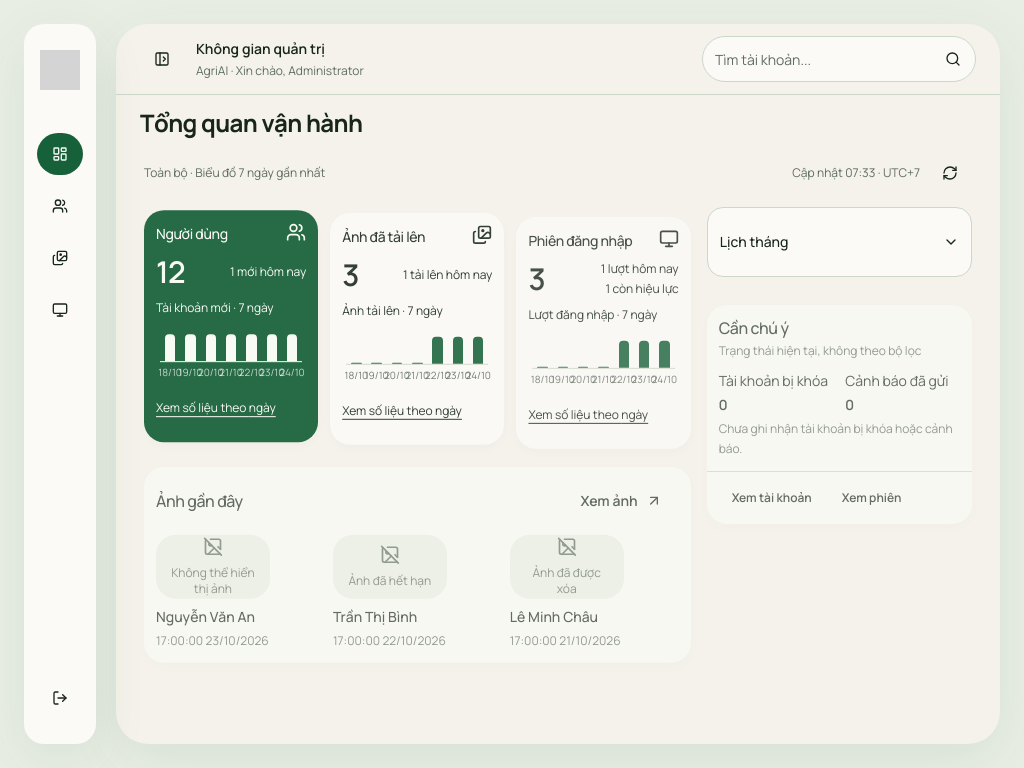
Scenario: Admin mock workspace with real authentication › filters mock accounts from dashboard search and handles no matches
The width and height of the screenshot is (1024, 768).
Expected: the heading "Tổng quan vận hành" is shown, [140,106,362,139]
Type "an@example.test" into the search field named "Tìm tài khoản theo tên hoặc email". click: (815, 59)
box: [703,37,927,81]
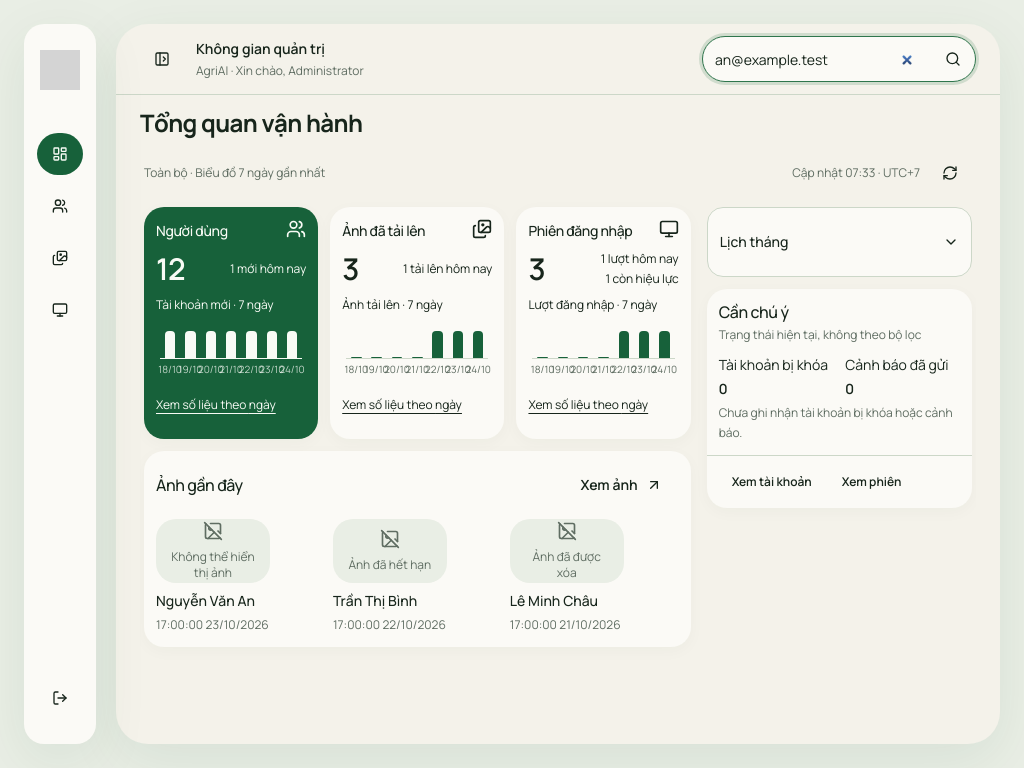
Click the button named "Tìm tài khoản". click: (953, 59)
box: [931,37,975,81]
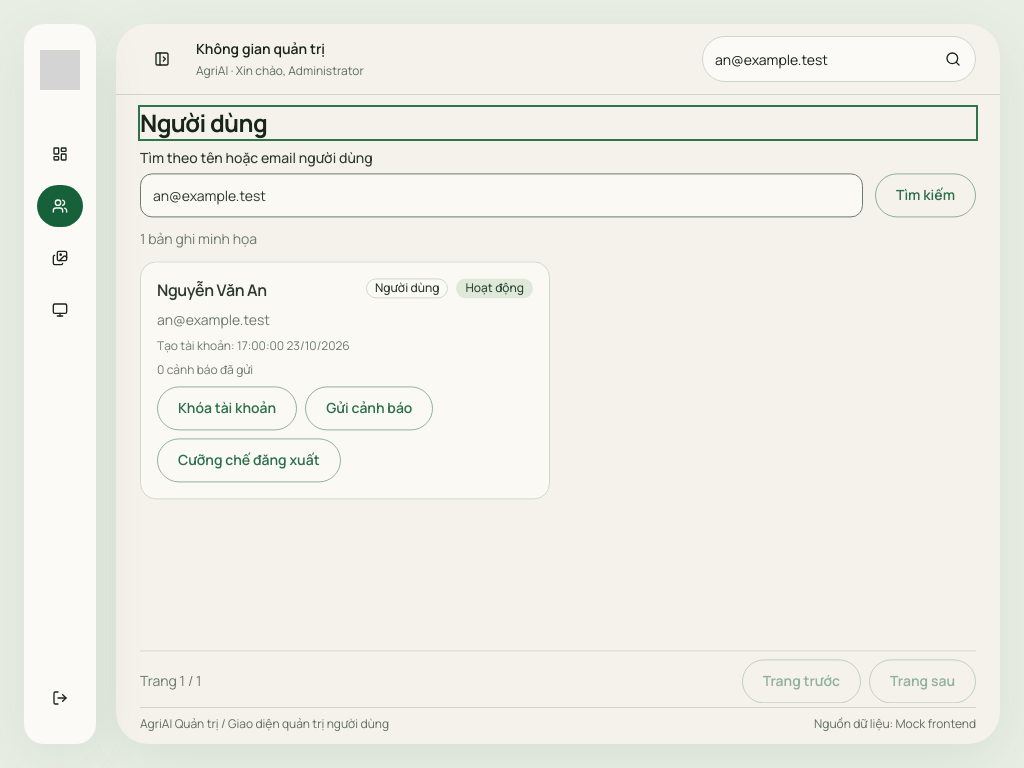
Expected: the heading "Nguyễn Văn An" is shown, [157,279,267,301]
Now the text "Trần Thị Bình" is gone
Clear the field labelled "Tìm theo tên hoặc email người dùng". click: (502, 195)
box: [140,173,863,217]
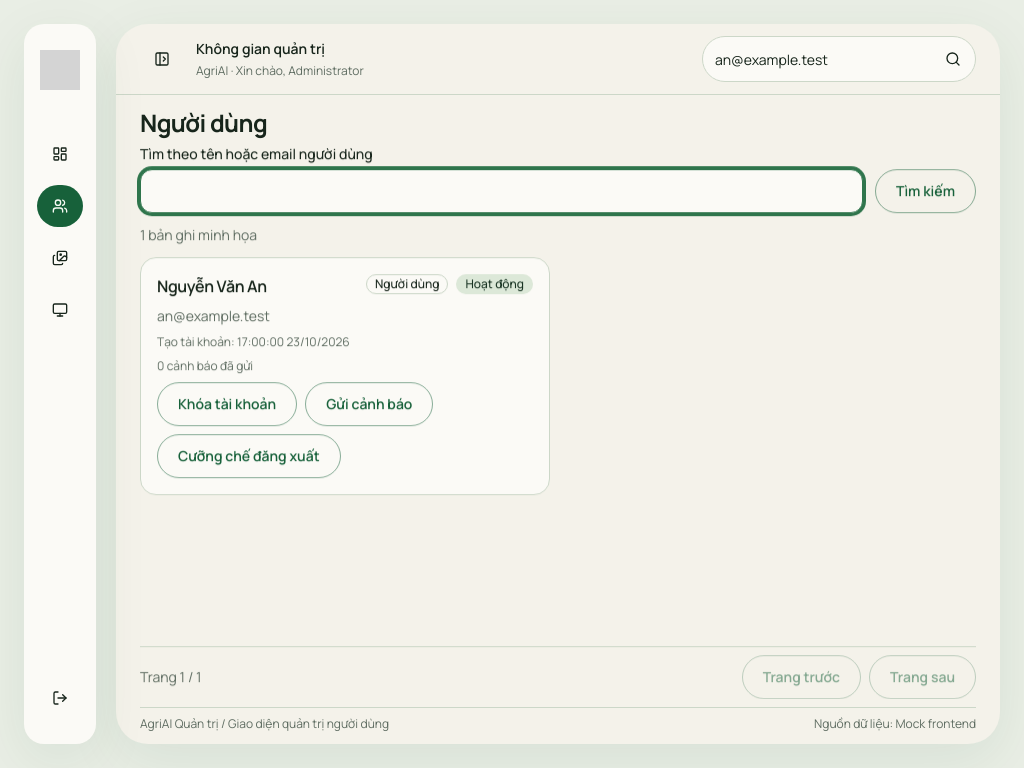
Type "nobody@example.test" into the field labelled "Tìm theo tên hoặc email người dùng". click: (502, 191)
box: [140,169,863,213]
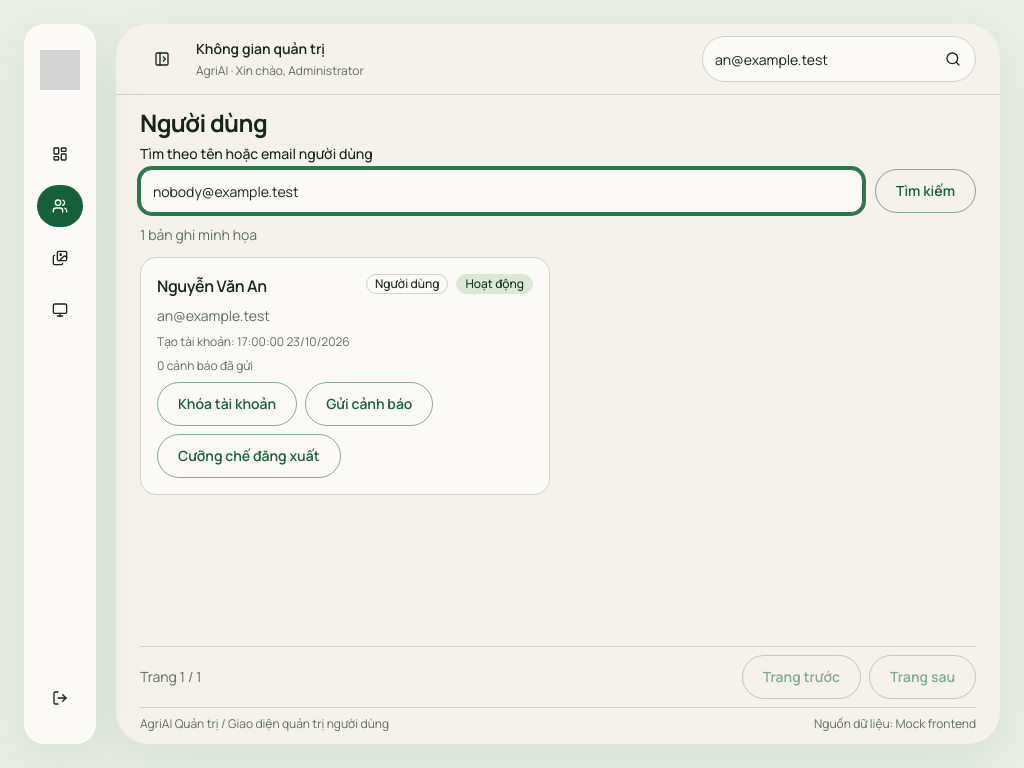
Click the button "Tìm kiếm". click: (926, 191)
box: [875,169,976,213]
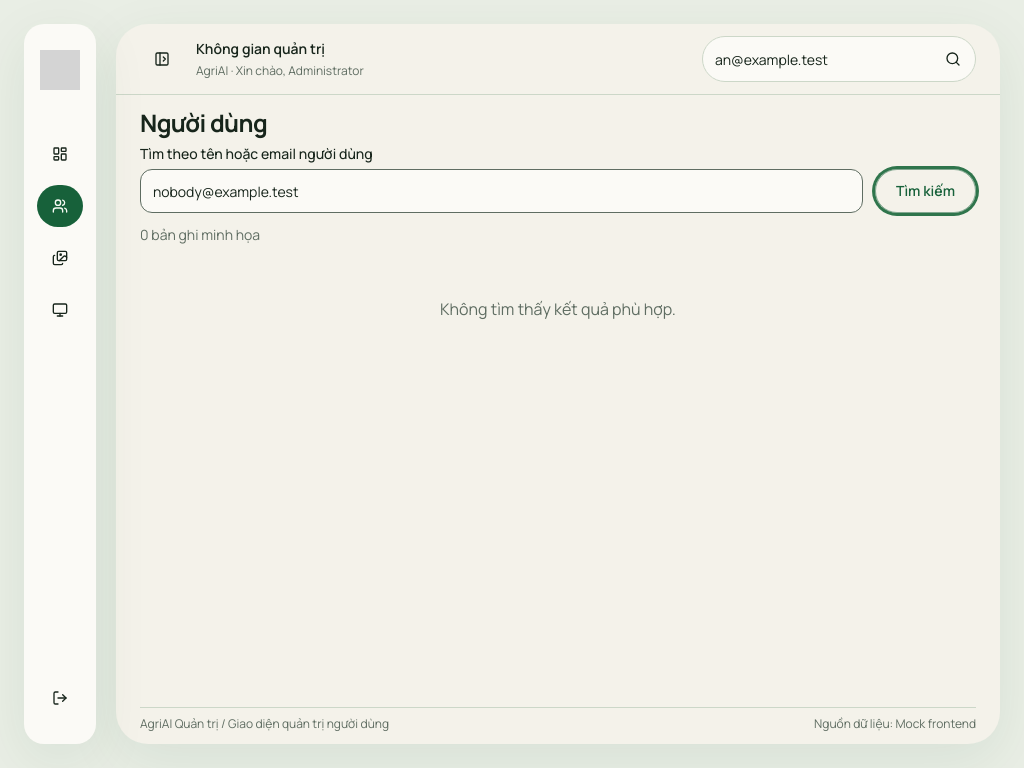
Now the text "Không tìm thấy kết quả phù hợp." is shown, box [440,298,676,320]
